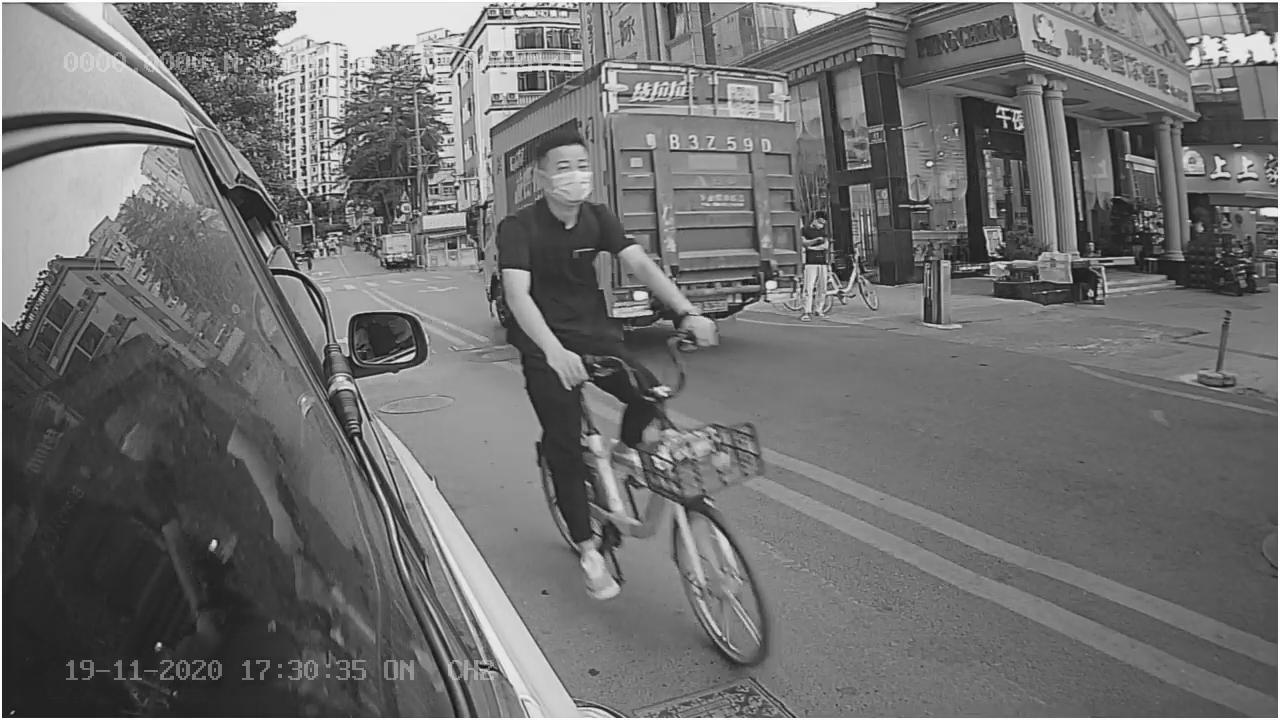person: (496, 135, 645, 350)
